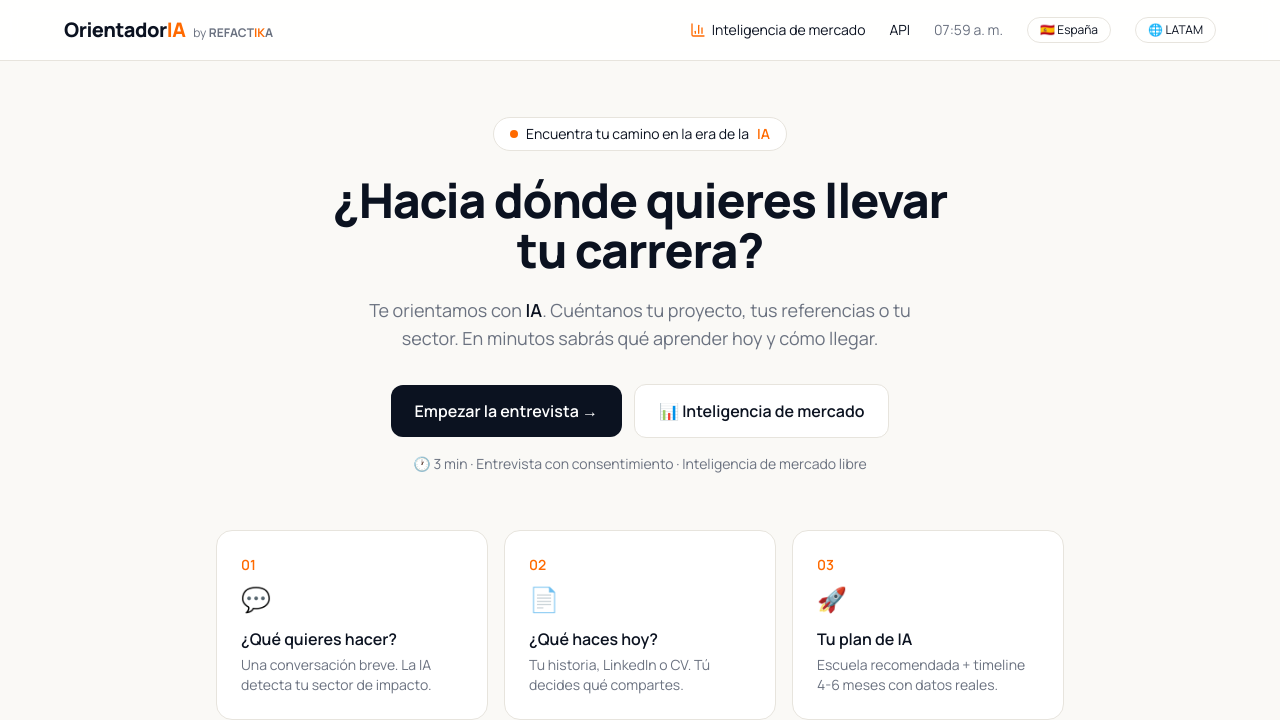
OrientadorCandidatePage (flujo público del candidato, D-025/D-027) › requiere elegir al menos un sector antes de continuar al paso 2
This screenshot has width=1280, height=720.
Step 1. Click the button with test id "start-button" → (506, 411), box [391,385,622,437]
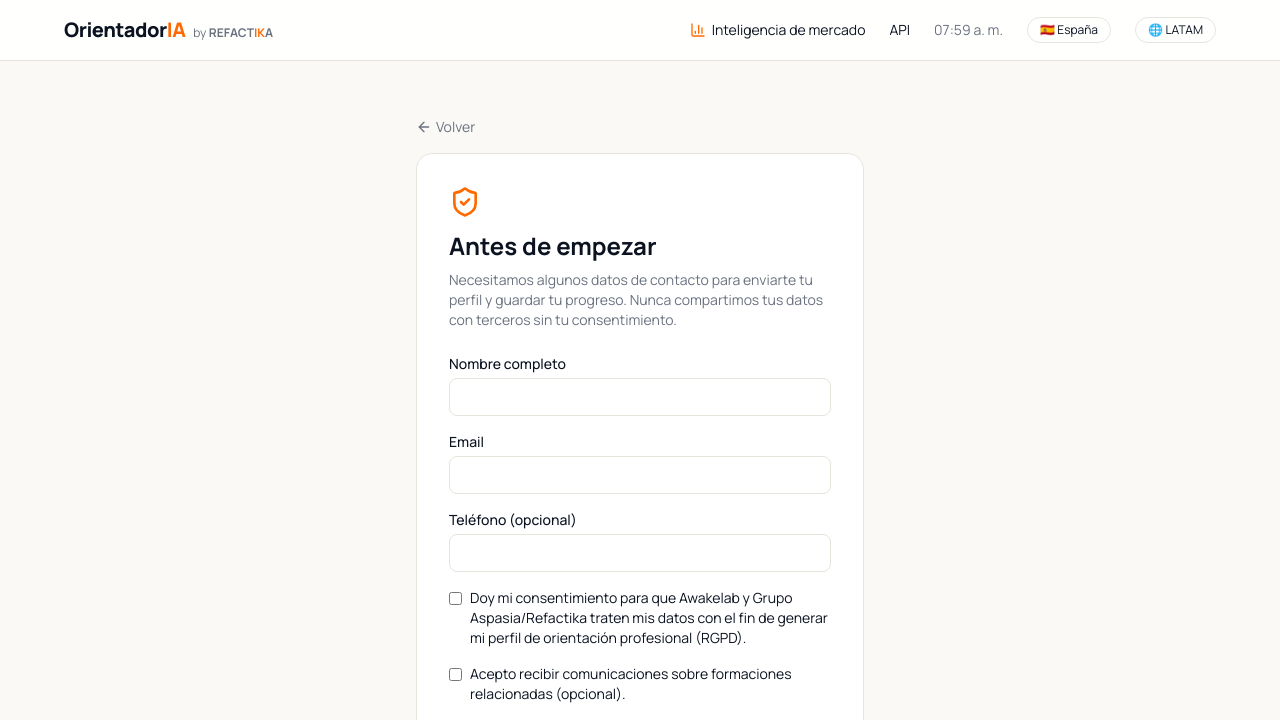
Step 2. Type "Ada Candidata" into the field labelled "Nombre completo" → (640, 397), box [449,378,831,416]
Step 3. Type "ada@example.com" into the field labelled "Email" → (640, 475), box [449,456,831,494]
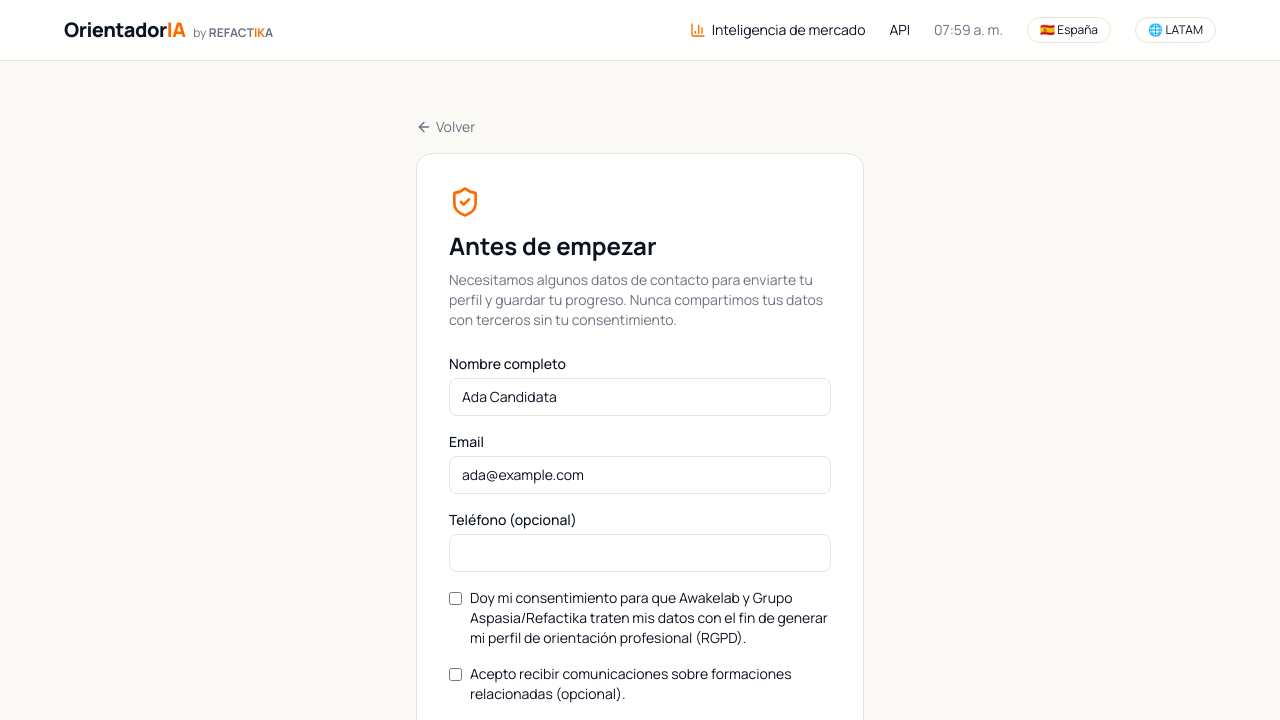
Step 4. Click the checkbox with test id "consent-checkbox" → (456, 598), box [449,592,462,605]
(page scrolled)
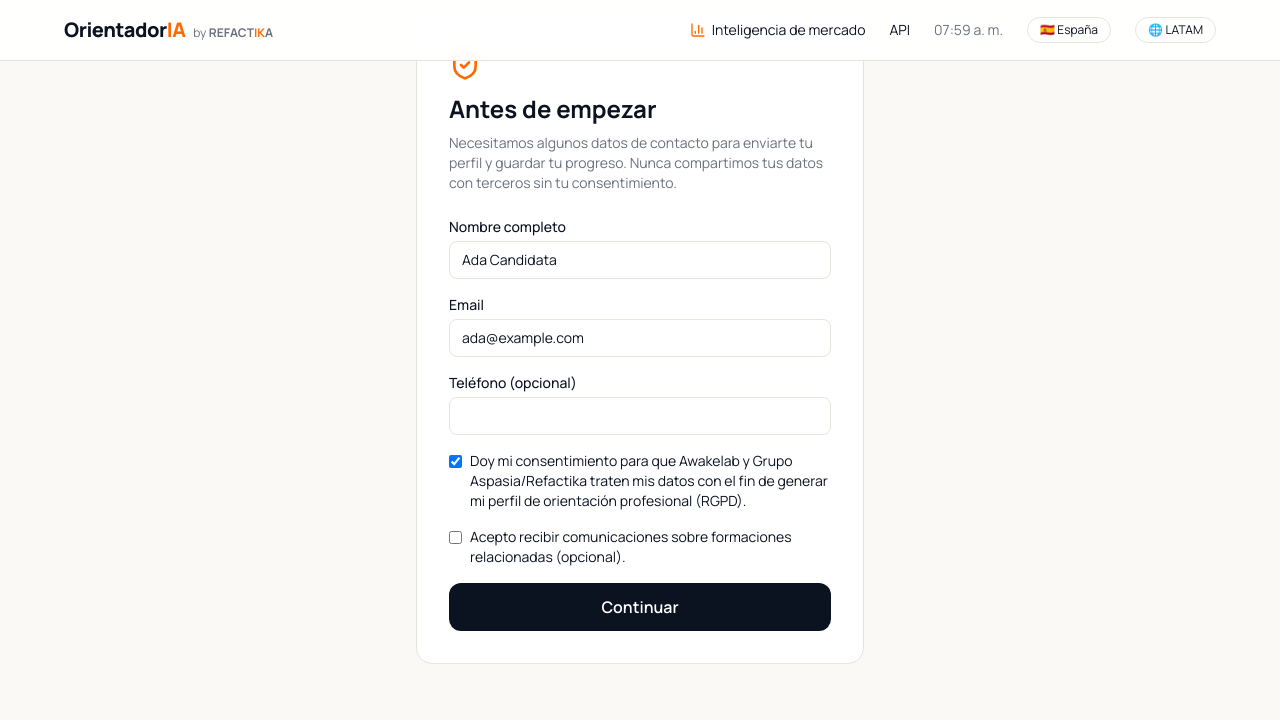
Step 5. Click the button with test id "consent-submit" → (640, 607), box [449,583,831,631]
(page scrolled)
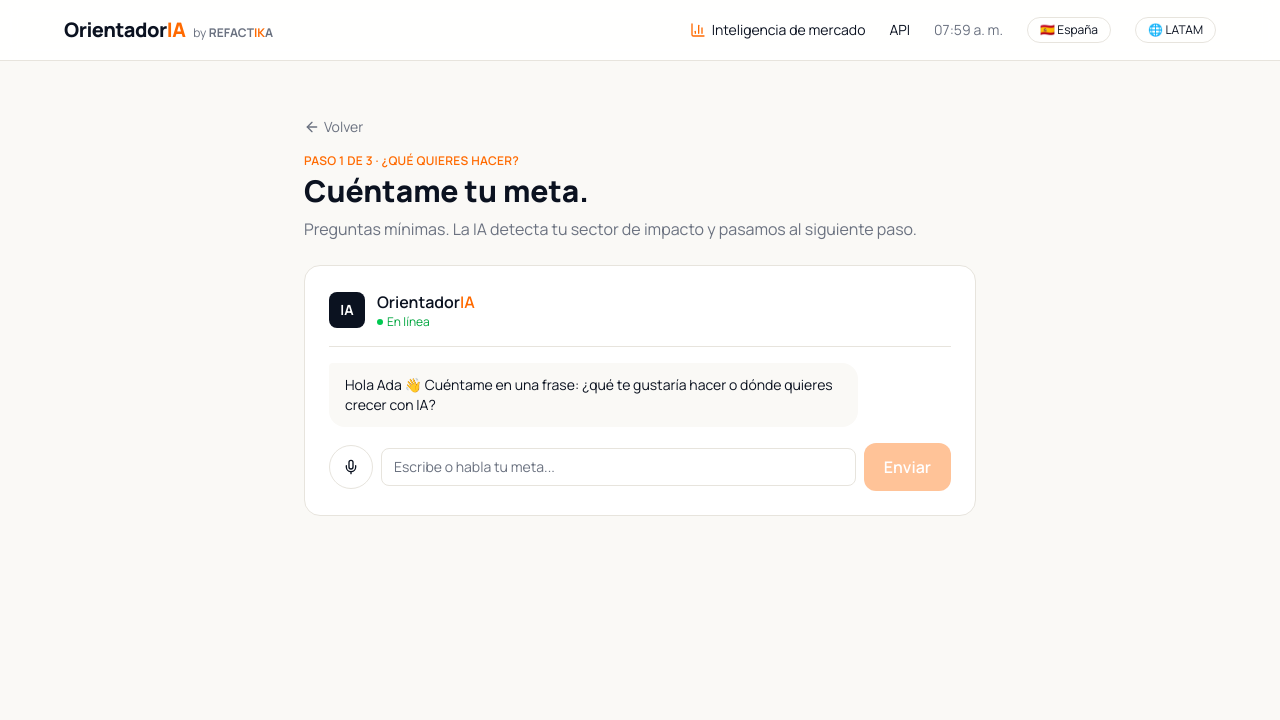
Step 6. Type "Quiero especializarme en IA aplicada al desarrollo de software." into the field with test id "meta-input" → (618, 467), box [381,448,856,486]
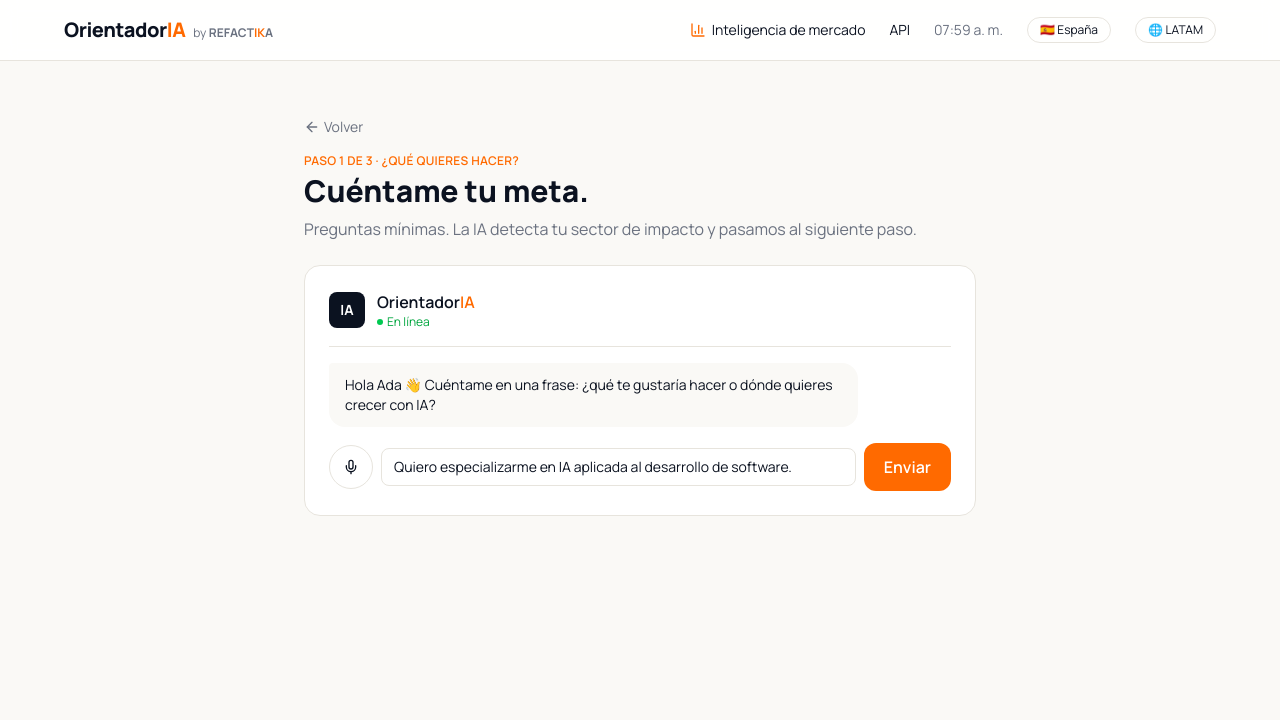
Step 7. Click the button with test id "meta-submit" → (907, 467), box [864,443,951,491]
(page scrolled)
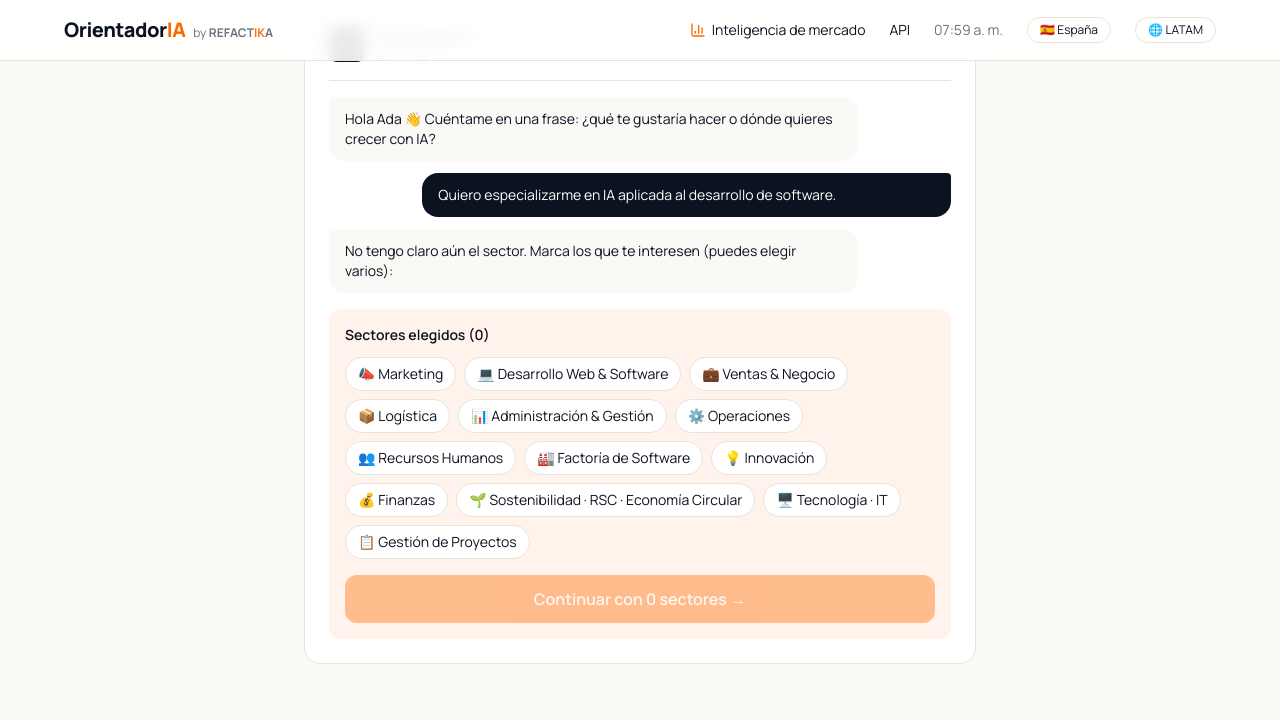
Expected: the button with test id "sectors-continue" is disabled, [345,575,935,623]
